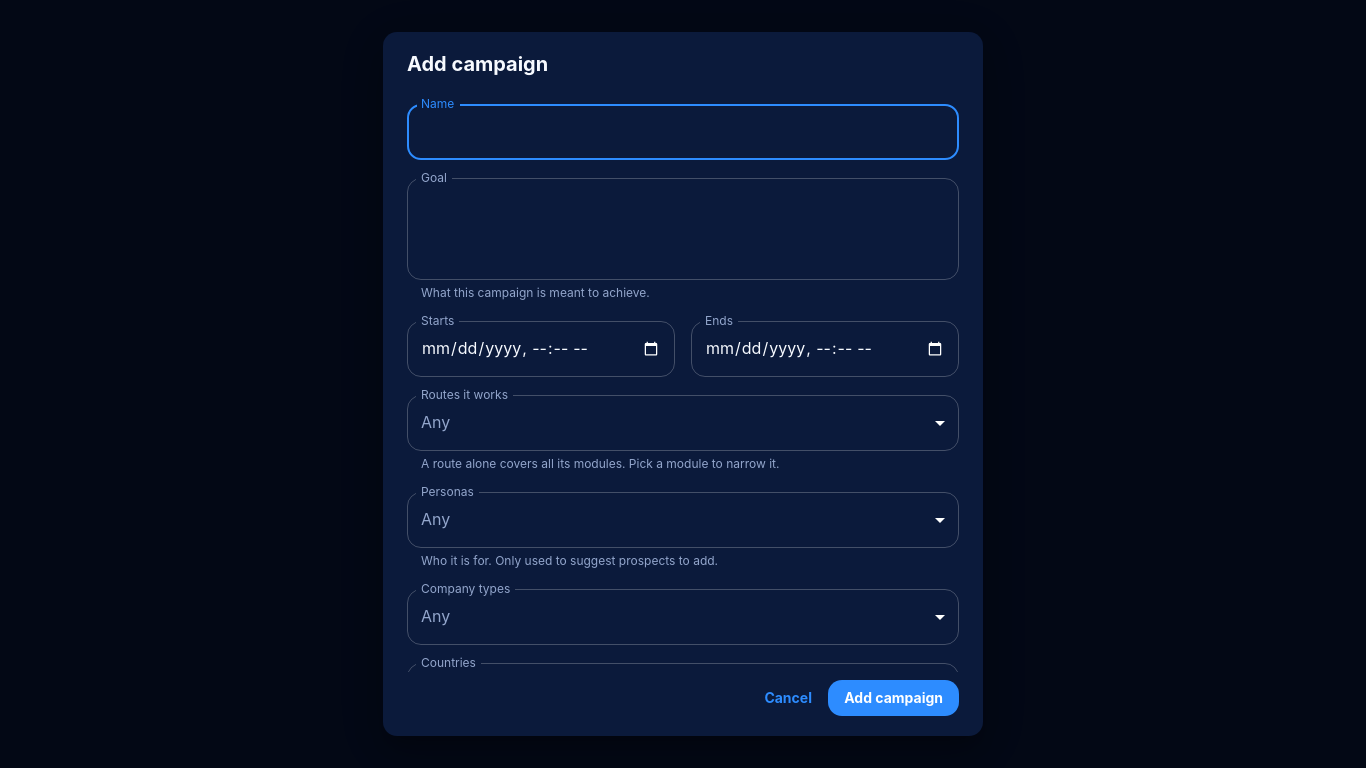
Test: CampaignForm (adding) › needs a name, in plain words, and sends nothing without one
Step 1. Click the button "Add campaign" → (894,698), box [828,680,959,716]
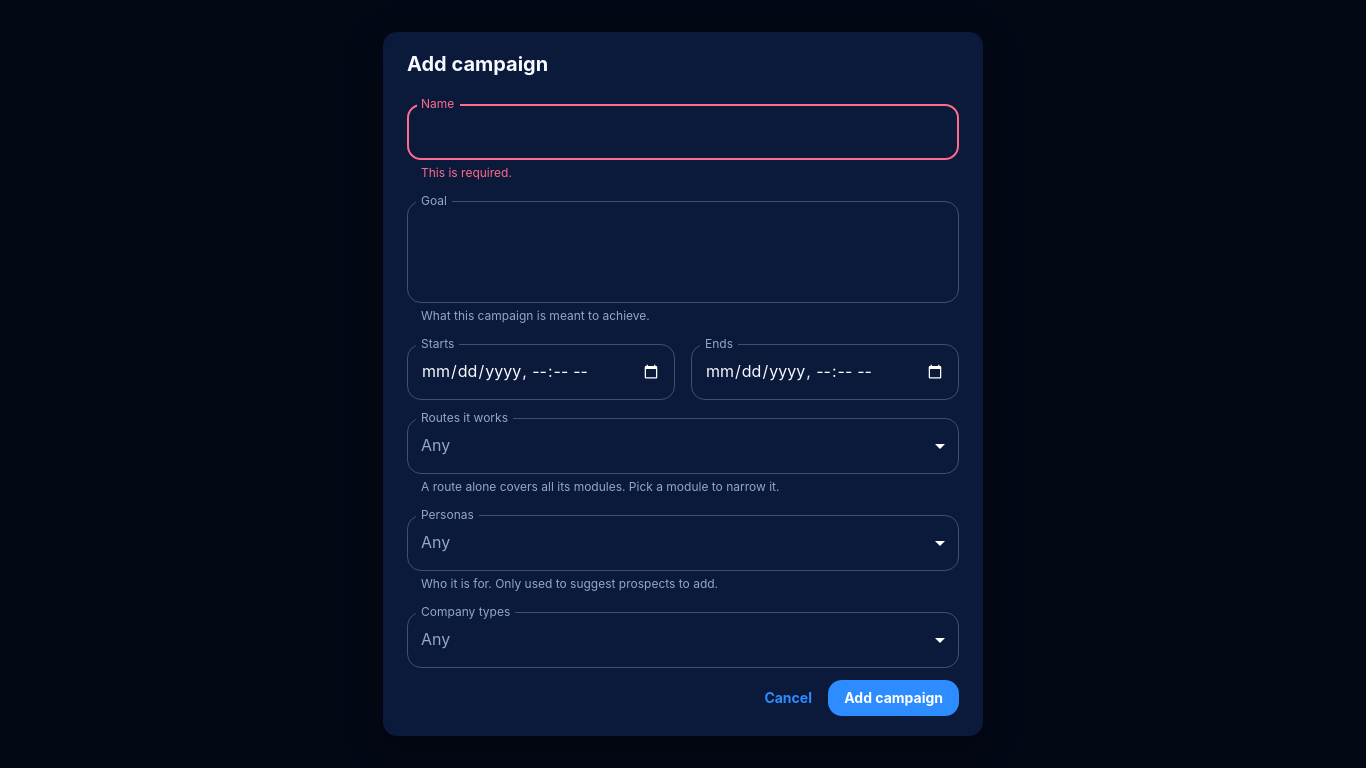
Check: the text "This is required." is shown, box [421,165,512,180]
